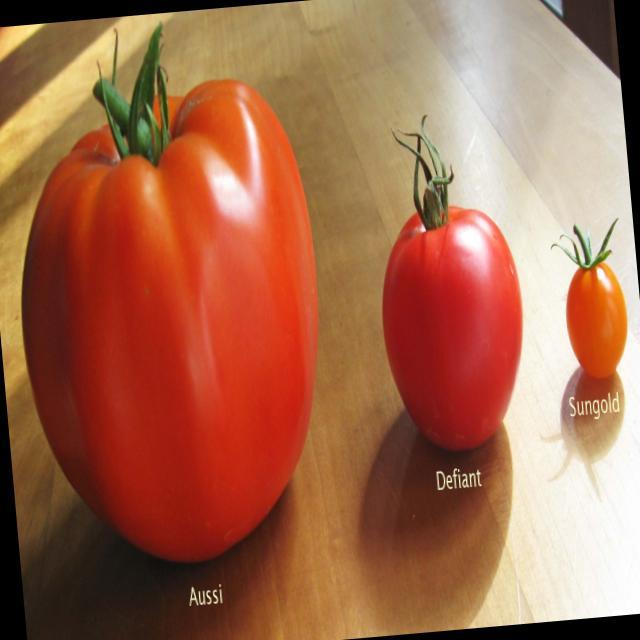TOMATO: (5, 74, 338, 575), (372, 182, 535, 455), (562, 248, 632, 383)
